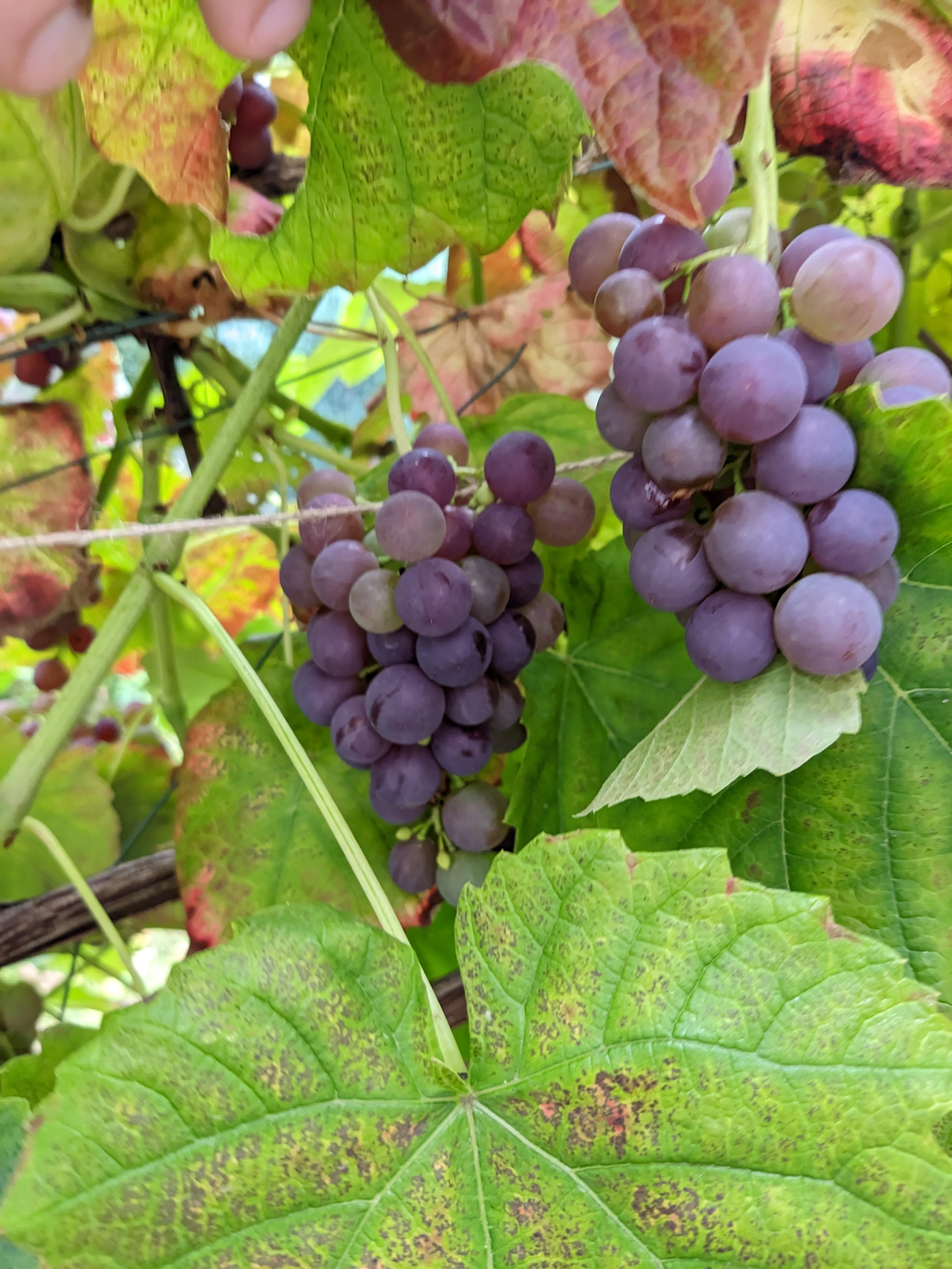Grape Unripe: (563, 204, 952, 693), (273, 414, 606, 912), (192, 74, 282, 182)
